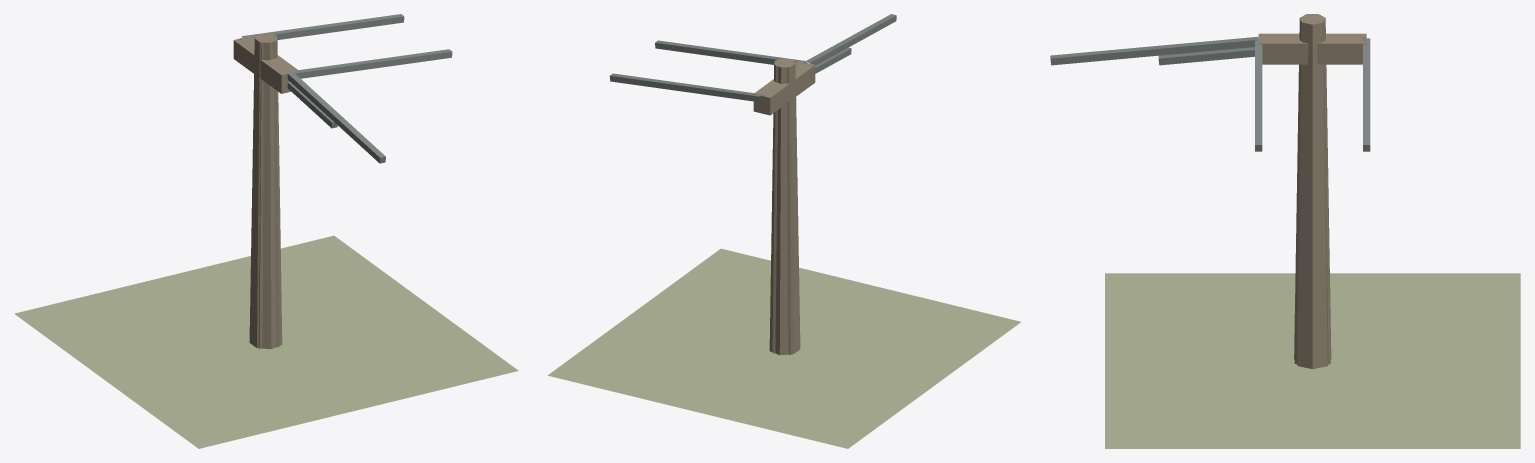
3 views of the same model, side by side, from view 1: azimuth 30°, elevation 25°; view 2: azimuth 150°, elevation 25°; view 3: azimuth 270°, elevation 25° (orthographic). The views are drawn at different scales.
Visible parts, largest first — view 1: Near, Far; view 2: Near, Far; view 3: Near, Far.
Part boxes in pixels (bbox=[...]): Near: bbox=[14, 14, 518, 448]; Far: bbox=[255, 33, 279, 348]; Near: bbox=[548, 14, 1020, 448]; Far: bbox=[772, 58, 795, 354]; Near: bbox=[1050, 14, 1520, 448]; Far: bbox=[1294, 14, 1330, 363].
Bounding box in the file's own units: 1 × 0.91 × 1.13.
